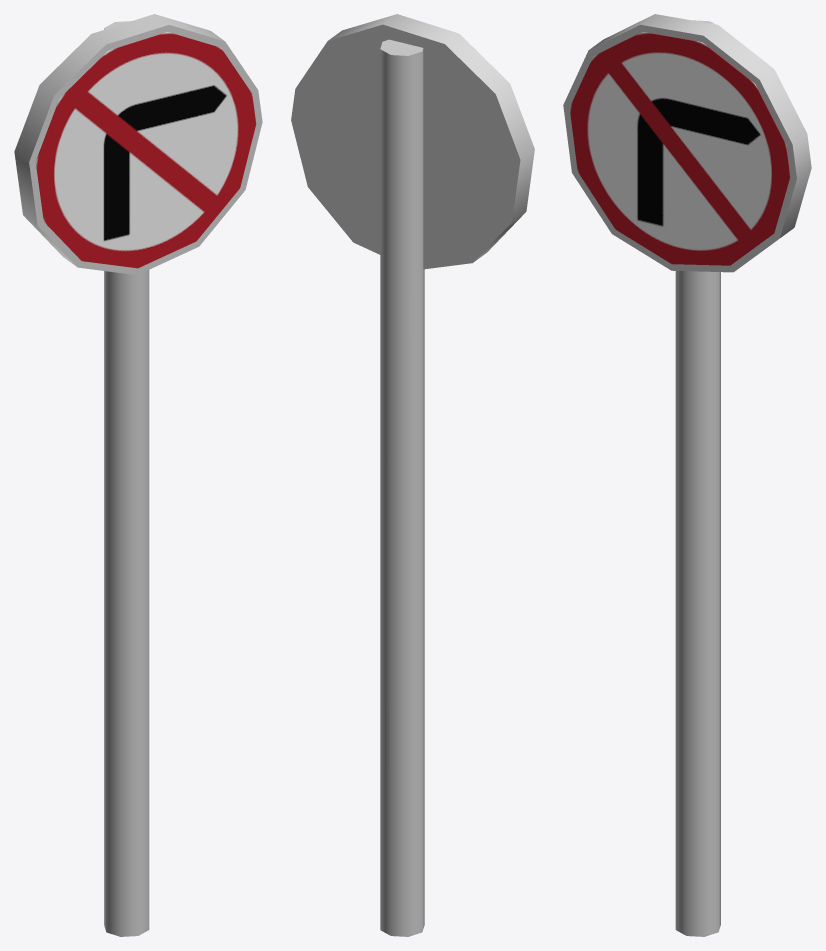
The model's file is NRIGHTURN.fbx.
3 renders of one model, left to right at view 1: azimuth 30°, elevation 25°; view 2: azimuth 150°, elevation 25°; view 3: azimuth 330°, elevation 25°, orthographic.
Parts seen in each view (by area): view 1: pasted__group27_pasted__pasted__group24_pasted__pasted__past; view 2: pasted__group27_pasted__pasted__group24_pasted__pasted__past; view 3: pasted__group27_pasted__pasted__group24_pasted__pasted__past.
Boxes of the visible parts, x1,y1,x2,y2 form: pasted__group27_pasted__pasted__group24_pasted__pasted__past: (14,14,262,936); pasted__group27_pasted__pasted__group24_pasted__pasted__past: (291,14,534,936); pasted__group27_pasted__pasted__group24_pasted__pasted__past: (563,14,811,936).
Size of the model in its own units: 1.02 by 3.81 by 0.2327.
Materials: 2 (1 with a texture image).
